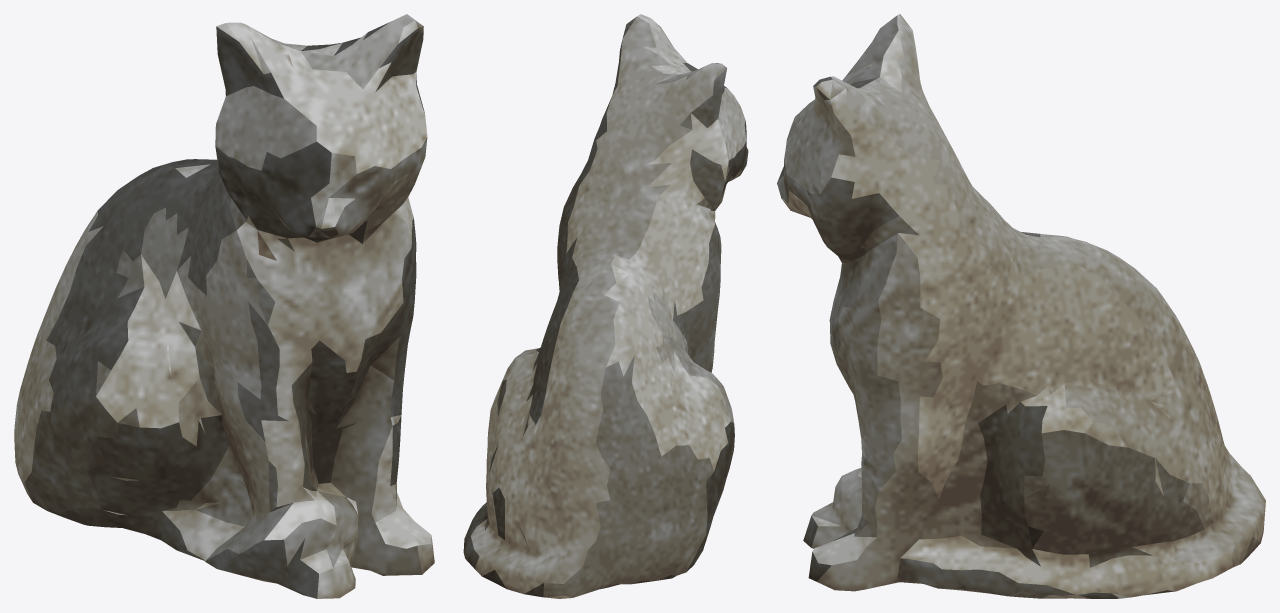
The model's file is cat_statue.obj.
3 renders of one model, left to right at view 1: azimuth 30°, elevation 25°; view 2: azimuth 150°, elevation 25°; view 3: azimuth 270°, elevation 25°, orthographic. The views are drawn at different scales.
Visible parts, largest first — view 1: mesh; view 2: mesh; view 3: mesh.
Part boxes in pixels (x1=…): mesh: x1=14, y1=14, x2=434, y2=598; mesh: x1=463, y1=14, x2=748, y2=598; mesh: x1=777, y1=14, x2=1265, y2=598.
Bounding box in the file's own units: 10.81 × 20 × 17.65.
Materials: 1 (1 with a texture image).
